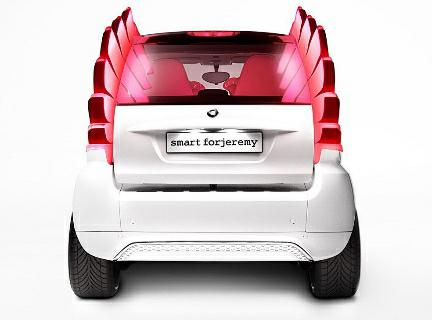smart-forjeremy: (60, 15, 367, 306)
